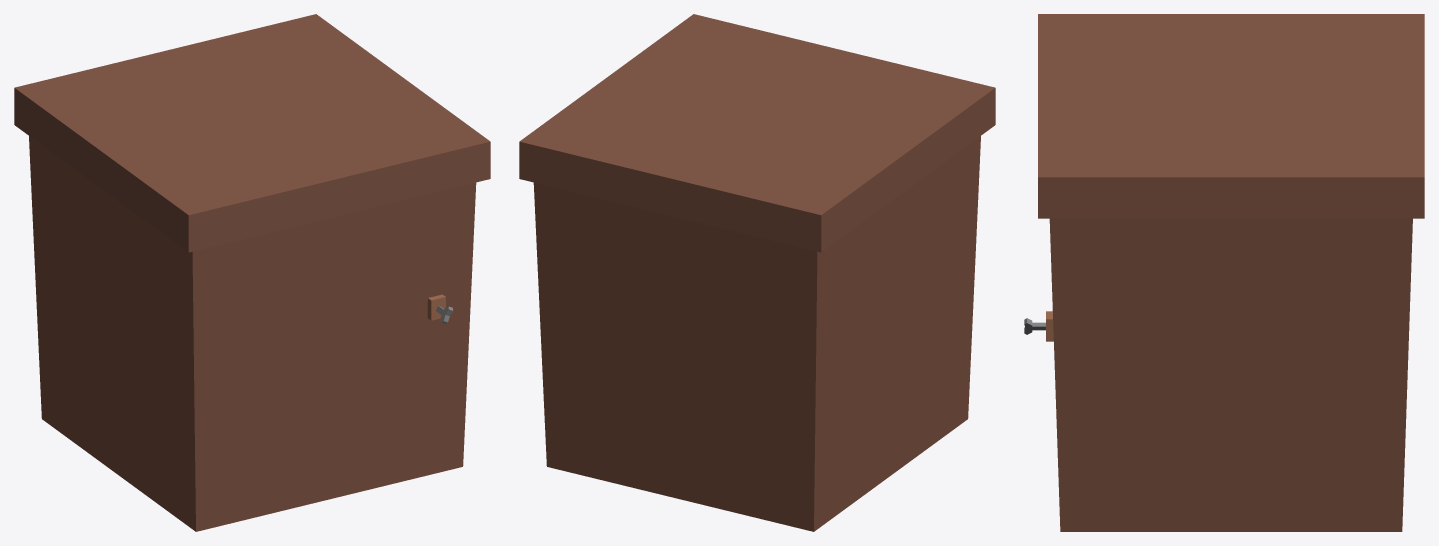
The model's file is Cupboard 2.2.fbx.
3 views of the same model, side by side, from view 1: azimuth 30°, elevation 25°; view 2: azimuth 150°, elevation 25°; view 3: azimuth 270°, elevation 25° (orthographic). The views are drawn at different scales.
Parts seen in each view (by area): view 1: Cupboard 2.2; view 2: Cupboard 2.2; view 3: Cupboard 2.2.
Part boxes in pixels (x1,y1,x2,y2): Cupboard 2.2: [14, 14, 490, 531]; Cupboard 2.2: [519, 14, 995, 531]; Cupboard 2.2: [1024, 14, 1424, 531].
Bounding box in the file's own units: 108 × 112 × 112.
